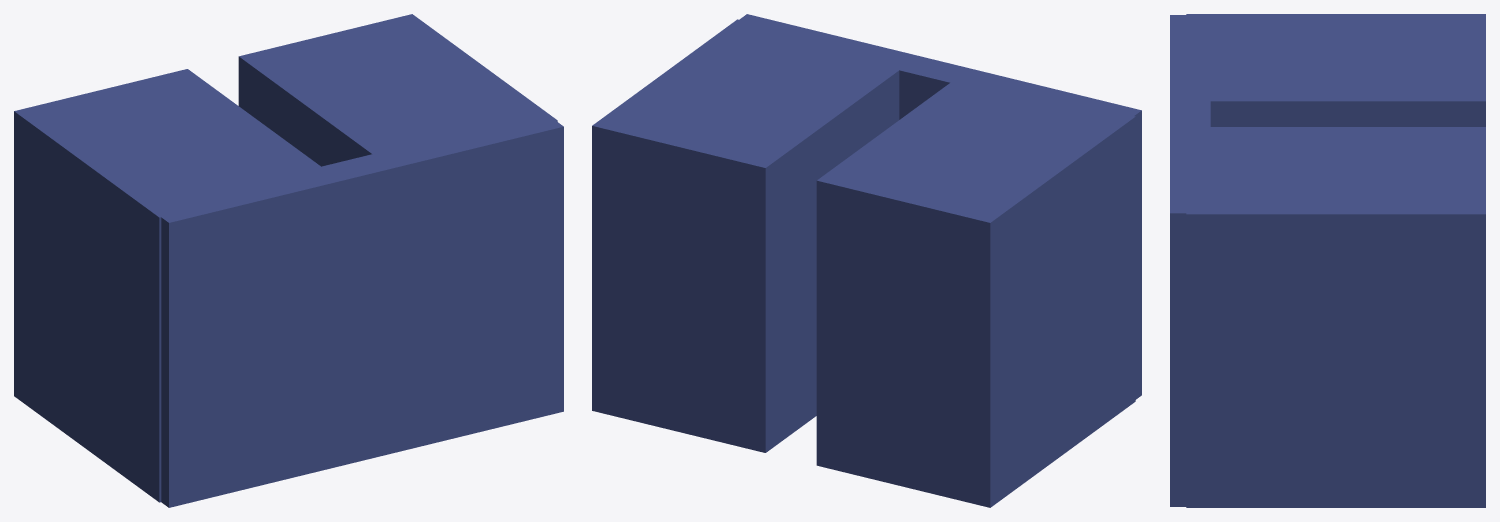
File: piloto_comercial_saia.glb
3 renders of one model, left to right at view 1: azimuth 30°, elevation 25°; view 2: azimuth 150°, elevation 25°; view 3: azimuth 270°, elevation 25°, orthographic. The views are drawn at different scales.
Visible parts, largest first — view 1: piloto_comercial_saia; view 2: piloto_comercial_saia; view 3: piloto_comercial_saia.
Part boxes in pixels (<box>): piloto_comercial_saia: <box>14,14,563,507</box>; piloto_comercial_saia: <box>592,14,1141,507</box>; piloto_comercial_saia: <box>1170,14,1485,507</box>.
Bounding box in the file's own units: 0.585 × 0.4 × 0.39.
